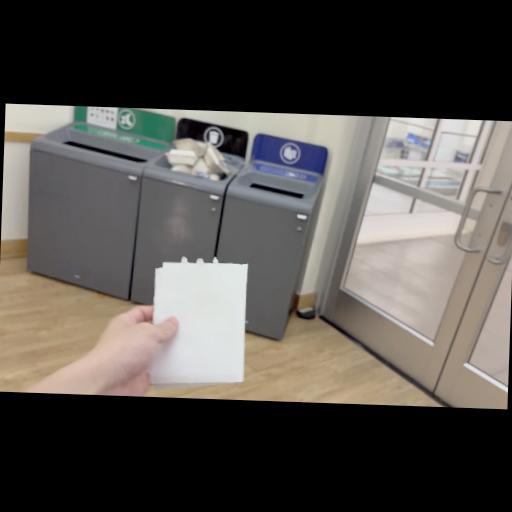napkin: (150, 260, 246, 380)
